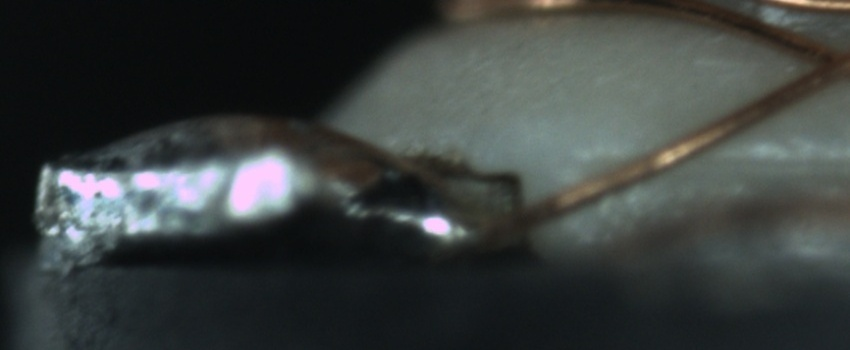CL: (792, 32, 850, 91)
DL: (615, 124, 850, 190)
